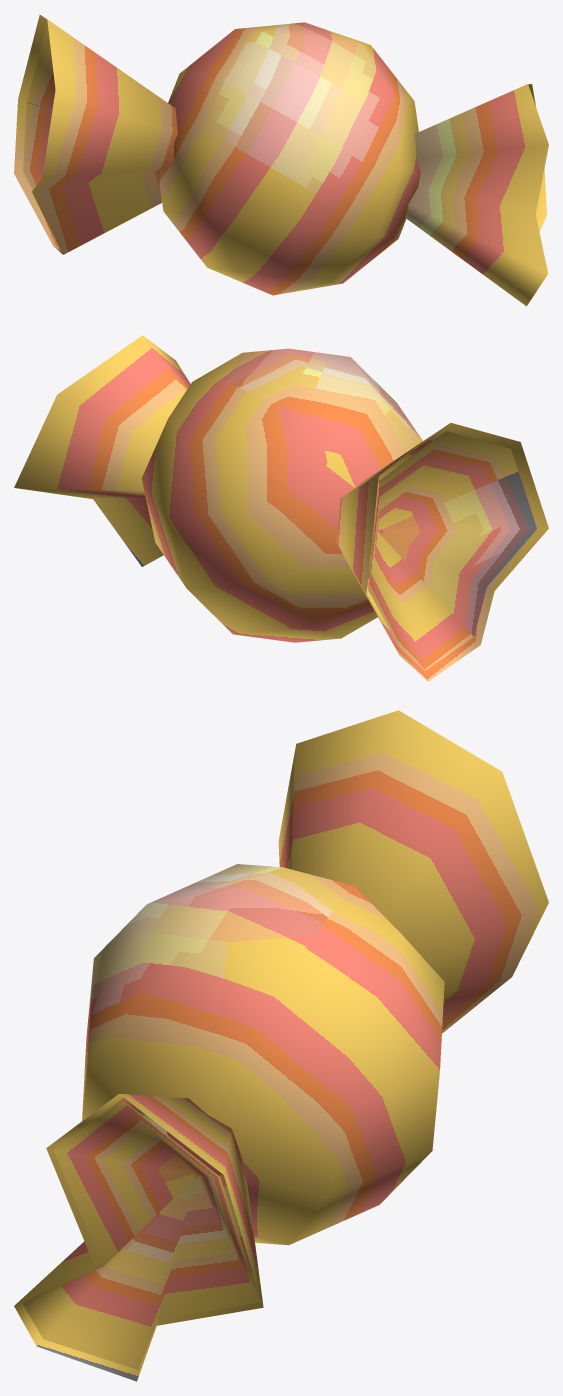
File: ac_candy.glb
The picture shows the model from 3 angles, top to bottom: view 1: azimuth 30°, elevation 25°; view 2: azimuth 150°, elevation 25°; view 3: azimuth 270°, elevation 25°; orthographic projection. The views are drawn at different scales.
Parts seen in each view (by area): view 1: VisualMaterial0; view 2: VisualMaterial0; view 3: VisualMaterial0.
Part boxes in pixels (left/top/right/bottom): VisualMaterial0: left=14, top=14, right=548, bottom=306; VisualMaterial0: left=14, top=335, right=548, bottom=681; VisualMaterial0: left=14, top=710, right=548, bottom=1381.
Size of the model in its own units: 17.48 by 9.84 by 11.56.
Materials: 1 (1 with a texture image).
